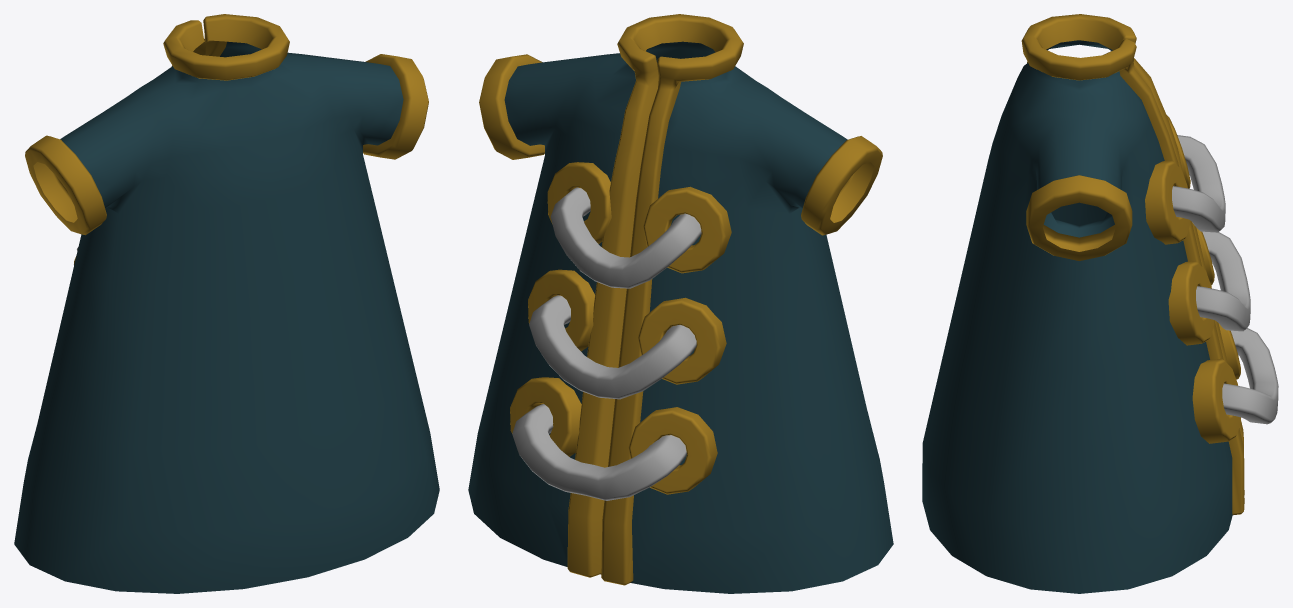
The model's file is Admiral_Chest.fbx.
The picture shows the model from 3 angles, left to right: view 1: azimuth 30°, elevation 25°; view 2: azimuth 150°, elevation 25°; view 3: azimuth 270°, elevation 25°; orthographic projection. The views are drawn at different scales.
Visible parts, largest first — view 1: ChesTemp; view 2: ChesTemp; view 3: ChesTemp.
Boxes of the visible parts, x1=… form: ChesTemp: x1=14, y1=14, x2=439, y2=593; ChesTemp: x1=468, y1=14, x2=893, y2=593; ChesTemp: x1=922, y1=14, x2=1278, y2=593.
Bounding box in the file's own units: 27.54 × 32.09 × 22.25.
